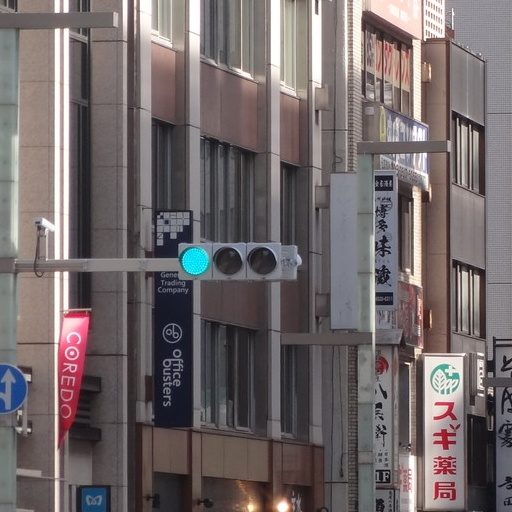Traffic_Signal_Blue: (175, 234, 304, 282)
